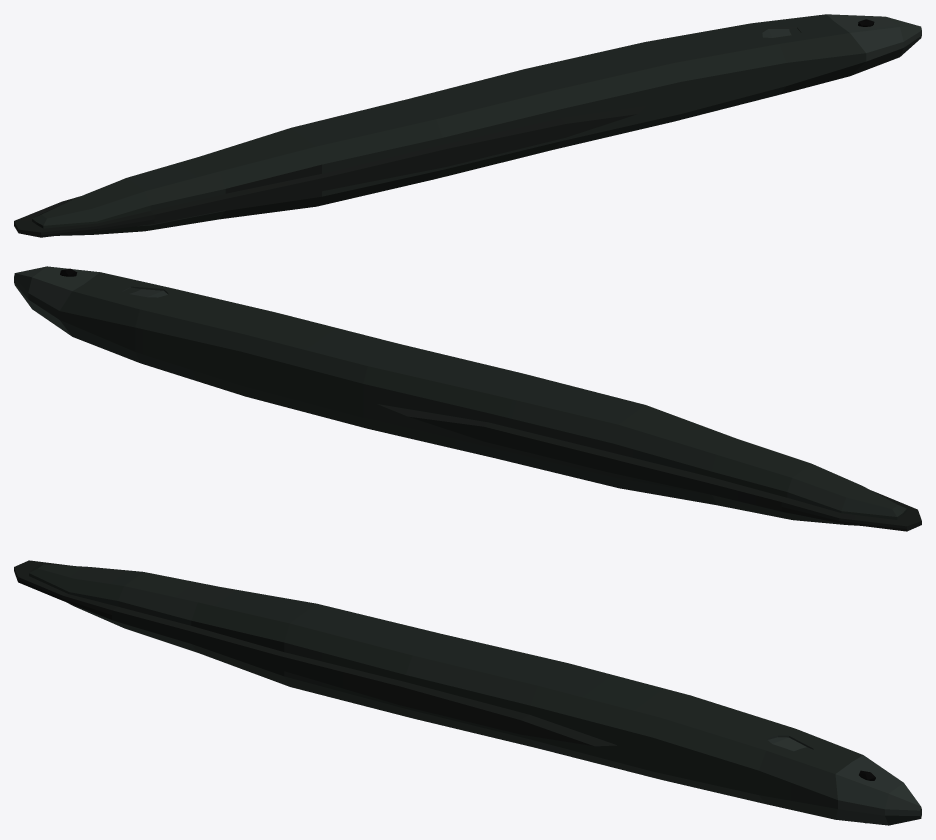
Rendered from Eel.glb.
3 renders of one model, top to bottom at view 1: azimuth 30°, elevation 25°; view 2: azimuth 150°, elevation 25°; view 3: azimuth 330°, elevation 25°, orthographic. The views are drawn at different scales.
Parts seen in each view (by area): view 1: Eel; view 2: Eel; view 3: Eel.
Boxes of the visible parts, x1,y1,x2,y2 form: Eel: (14,14,921,237); Eel: (14,266,921,531); Eel: (14,560,921,825).
Bounding box in the file's own units: 0.9917 × 0.0647 × 0.1036.
Materials: 1 (1 with a texture image).
